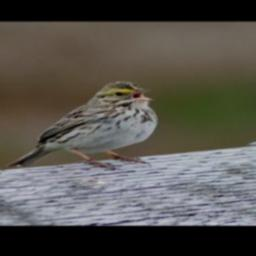Sparrow: (10, 77, 160, 172)
